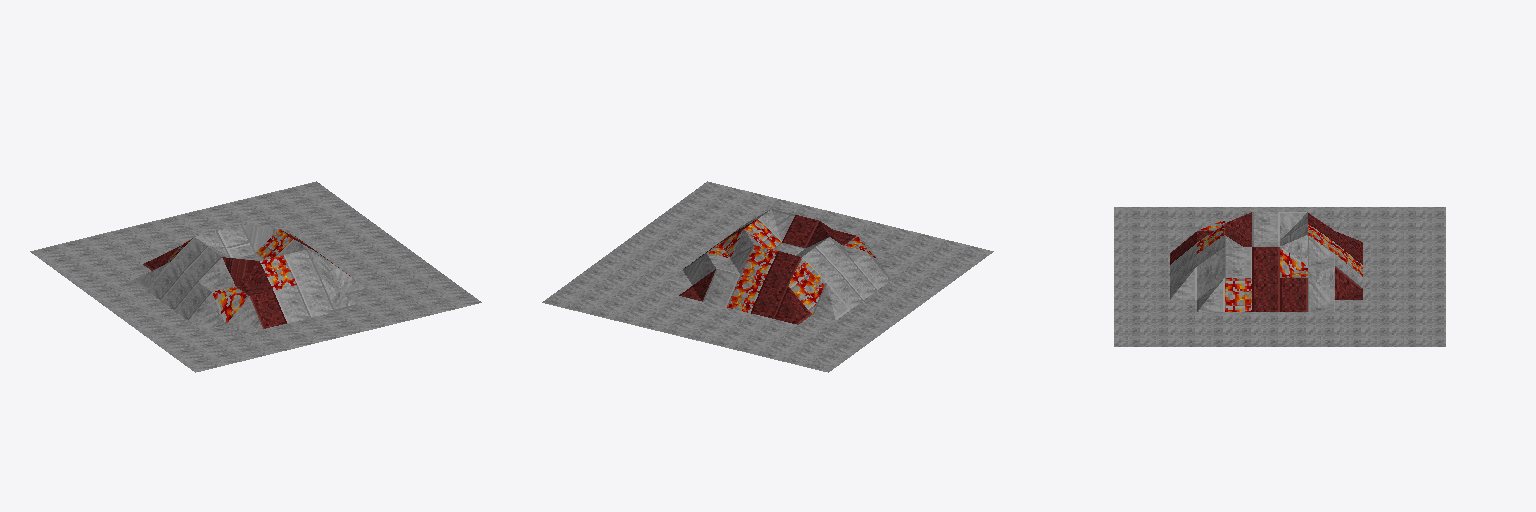
The picture shows the model from 3 angles: view 1: azimuth 30°, elevation 25°; view 2: azimuth 150°, elevation 25°; view 3: azimuth 270°, elevation 25°; orthographic projection.
Parts seen in each view (by area): view 1: centralRock_1; view 2: centralRock_1; view 3: centralRock_1.
Boxes of the visible parts, <box> form: centralRock_1: <box>30,181,481,372</box>; centralRock_1: <box>542,181,993,372</box>; centralRock_1: <box>1114,207,1445,346</box>.
Size of the model in its own units: 12 by 1.69 by 12.
8 materials, 8 textured.